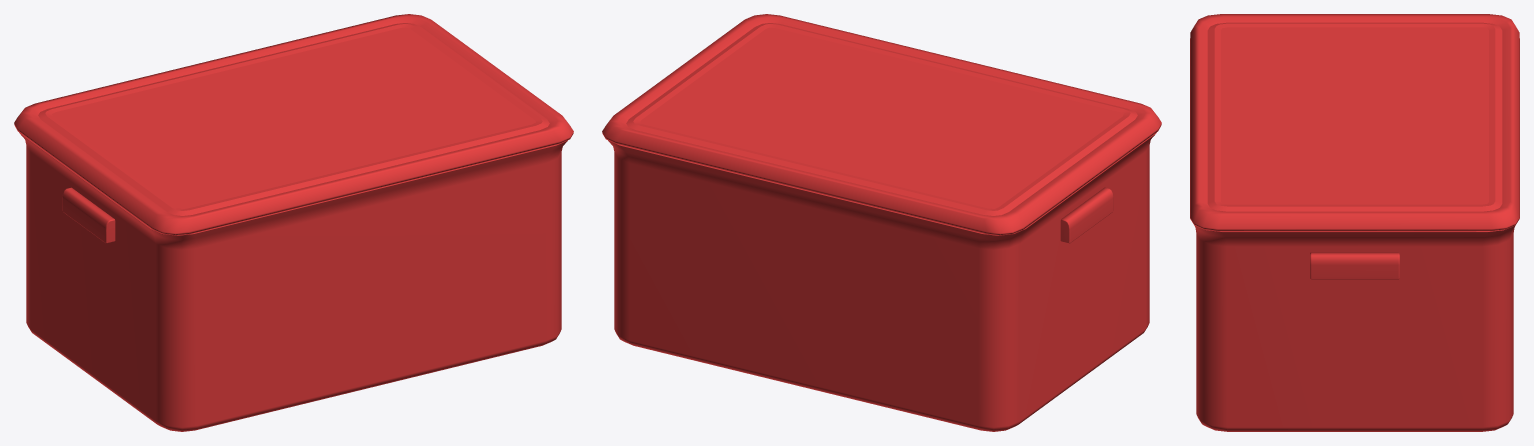
Rendered from leluloota.fbx.
3 views of the same model, side by side, from view 1: azimuth 30°, elevation 25°; view 2: azimuth 150°, elevation 25°; view 3: azimuth 270°, elevation 25° (orthographic).
Parts seen in each view (by area): view 1: Leluloota; view 2: Leluloota; view 3: Leluloota.
Part boxes in pixels (left/top/right/bottom): Leluloota: left=14, top=14, right=573, bottom=431; Leluloota: left=602, top=14, right=1161, bottom=431; Leluloota: left=1190, top=14, right=1519, bottom=431.
Size of the model in its own units: 500 by 255 by 334.
